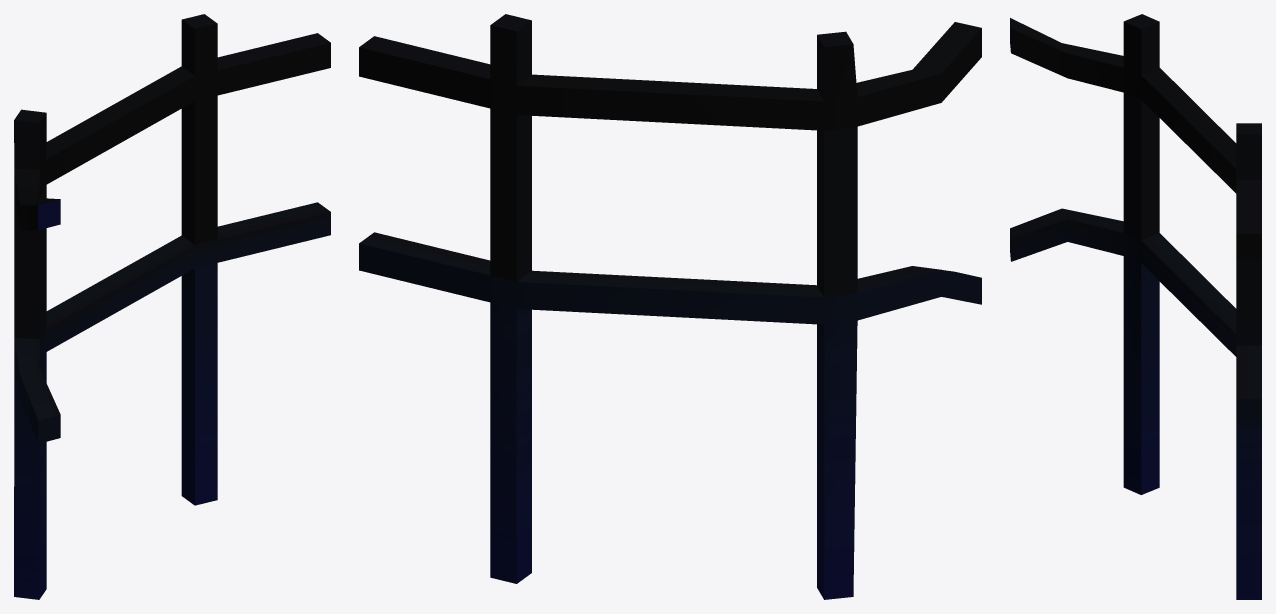
File: RBrokenFence.fbx
3 views of the same model, side by side, from view 1: azimuth 30°, elevation 25°; view 2: azimuth 150°, elevation 25°; view 3: azimuth 270°, elevation 25° (orthographic). The views are drawn at different scales.
Parts seen in each view (by area): view 1: Cube; view 2: Cube; view 3: Cube.
Part boxes in pixels (x1,y1,x2,y2): Cube: (14,14,330,599); Cube: (359,14,981,599); Cube: (1010,14,1261,599).
Size of the model in its own units: 1793 by 2001 by 981.
